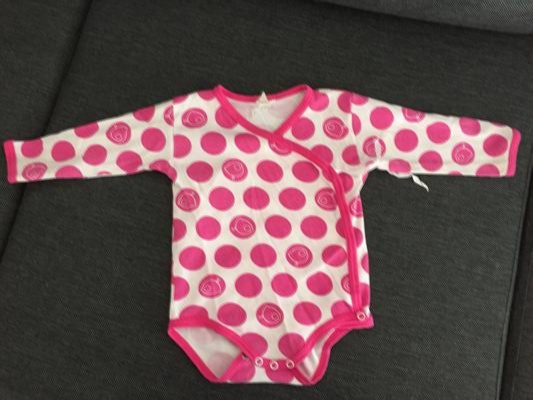Body: (10, 64, 525, 384)
